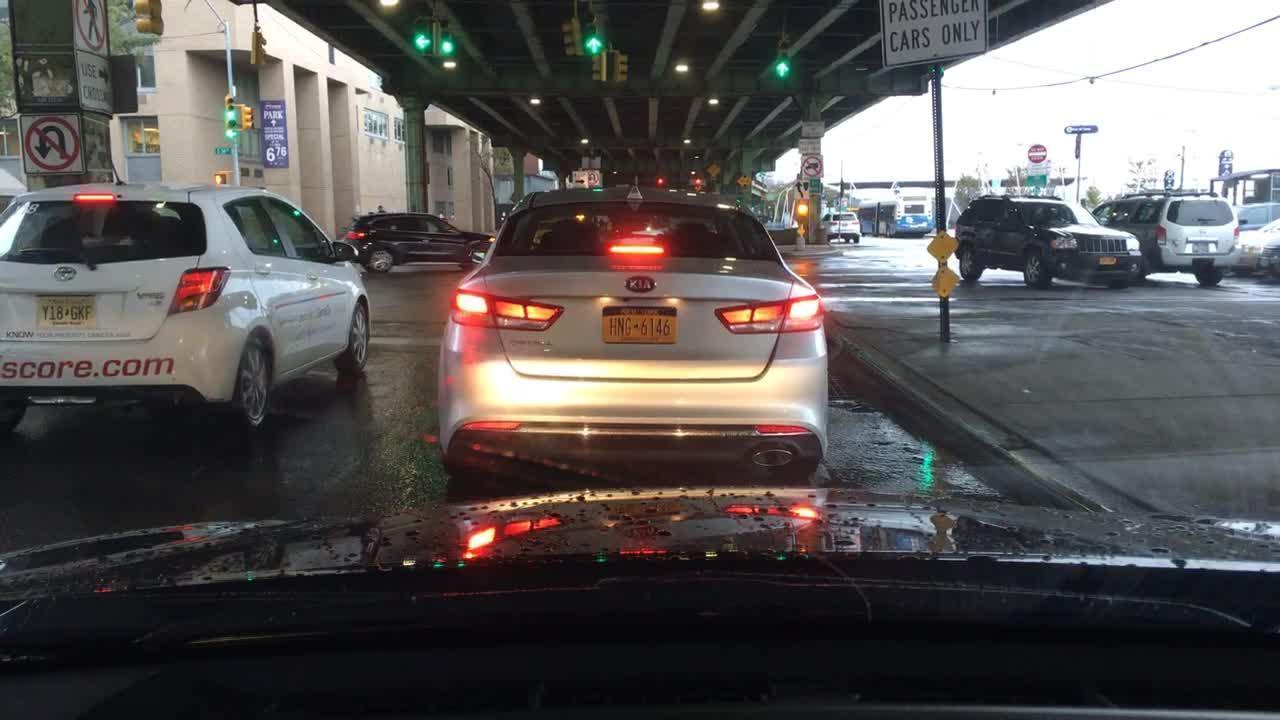Toyota: (50, 263, 82, 283)
kia: (616, 271, 667, 296)
